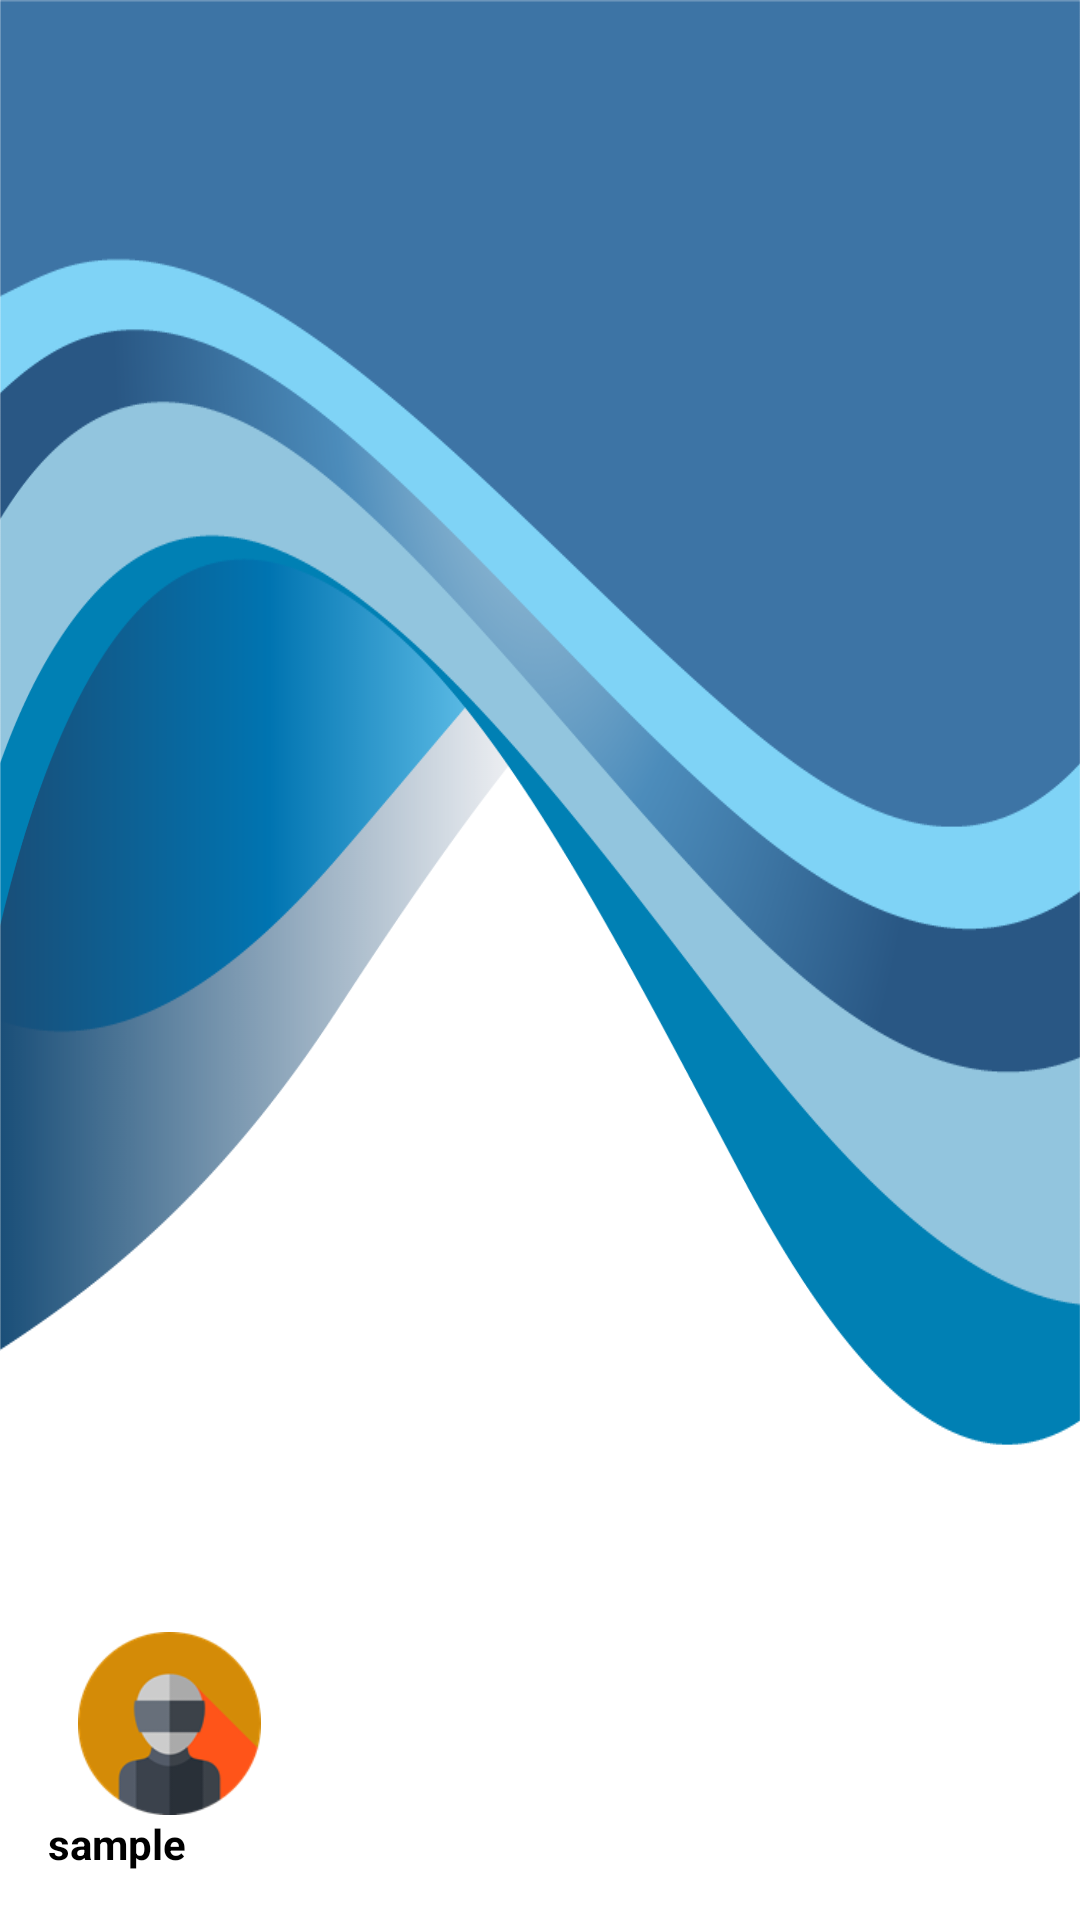

Where to tap for icons on this 1080x1920 app screen, as point (x, y):
user: point (169, 1723)
